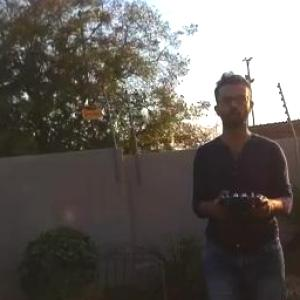follow: (190, 62, 299, 299)
